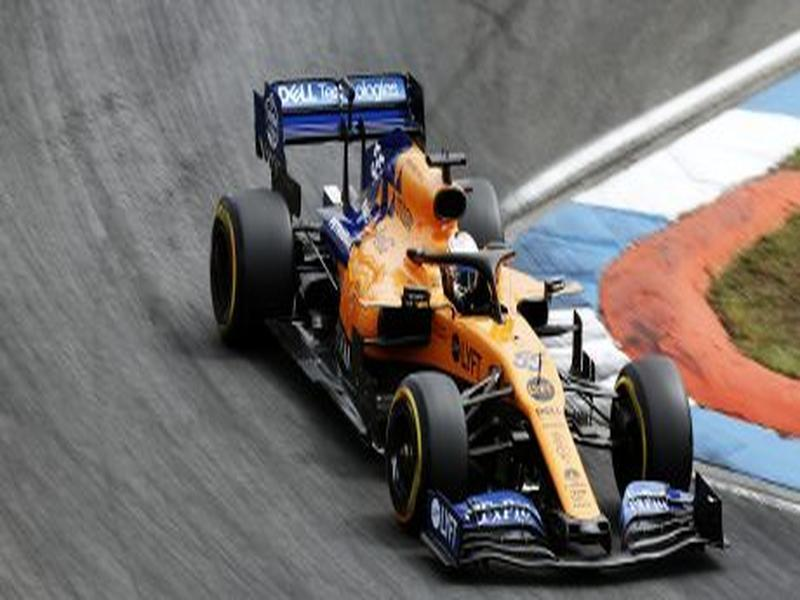racecar: (209, 59, 732, 581)
